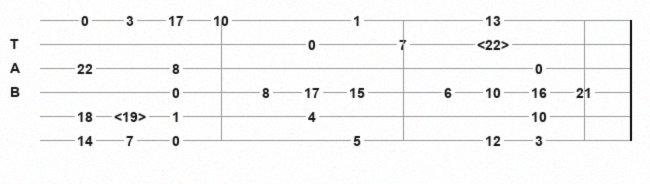0: (81, 13, 93, 27), (172, 133, 184, 147), (172, 85, 184, 99), (308, 37, 320, 51), (535, 61, 547, 75)
1: (172, 109, 184, 123), (353, 13, 365, 27)
10: (213, 13, 233, 27), (485, 85, 505, 99), (531, 109, 551, 123)
12: (485, 133, 505, 147)
13: (485, 13, 505, 27)
14: (77, 133, 97, 147)
15: (349, 85, 369, 99)
16: (531, 85, 551, 99)
17: (168, 13, 188, 27), (304, 85, 324, 99)
18: (77, 109, 97, 123)
21: (576, 85, 596, 99)
22: (77, 61, 97, 75)
3: (126, 13, 138, 27), (535, 133, 547, 147)
4: (308, 109, 320, 123)
5: (353, 133, 365, 147)
6: (444, 85, 456, 99)
7: (126, 133, 138, 147), (399, 37, 411, 51)
8: (172, 61, 184, 75), (262, 85, 274, 99)
harmonic: (114, 109, 150, 123), (477, 37, 513, 51)
